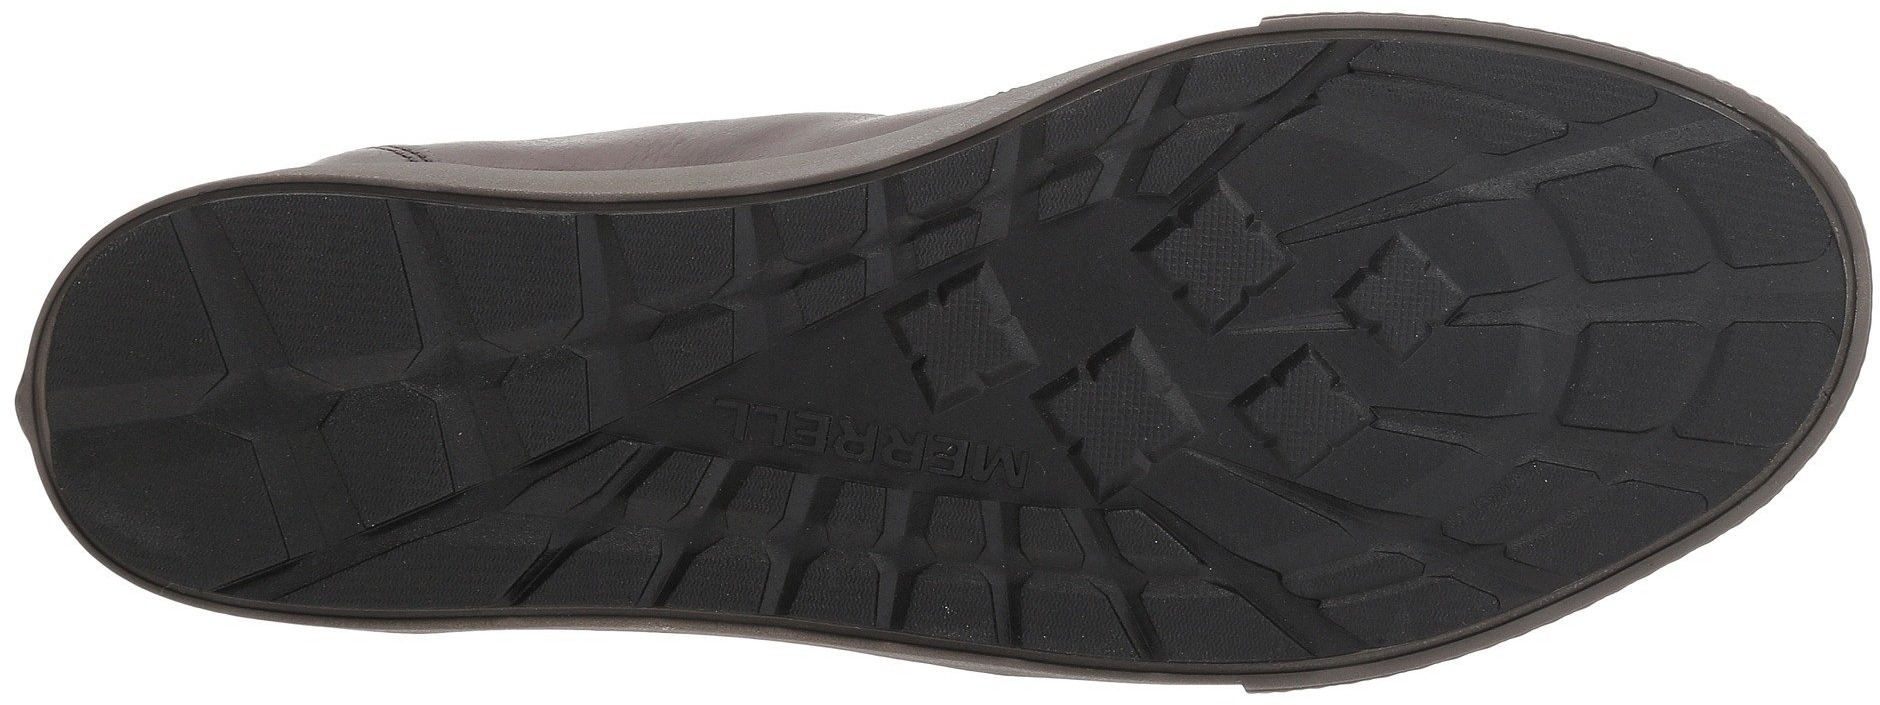bowtie: (308, 199, 621, 490), (965, 471, 1223, 668), (713, 445, 902, 622)
quad: (1553, 183, 1851, 418)
